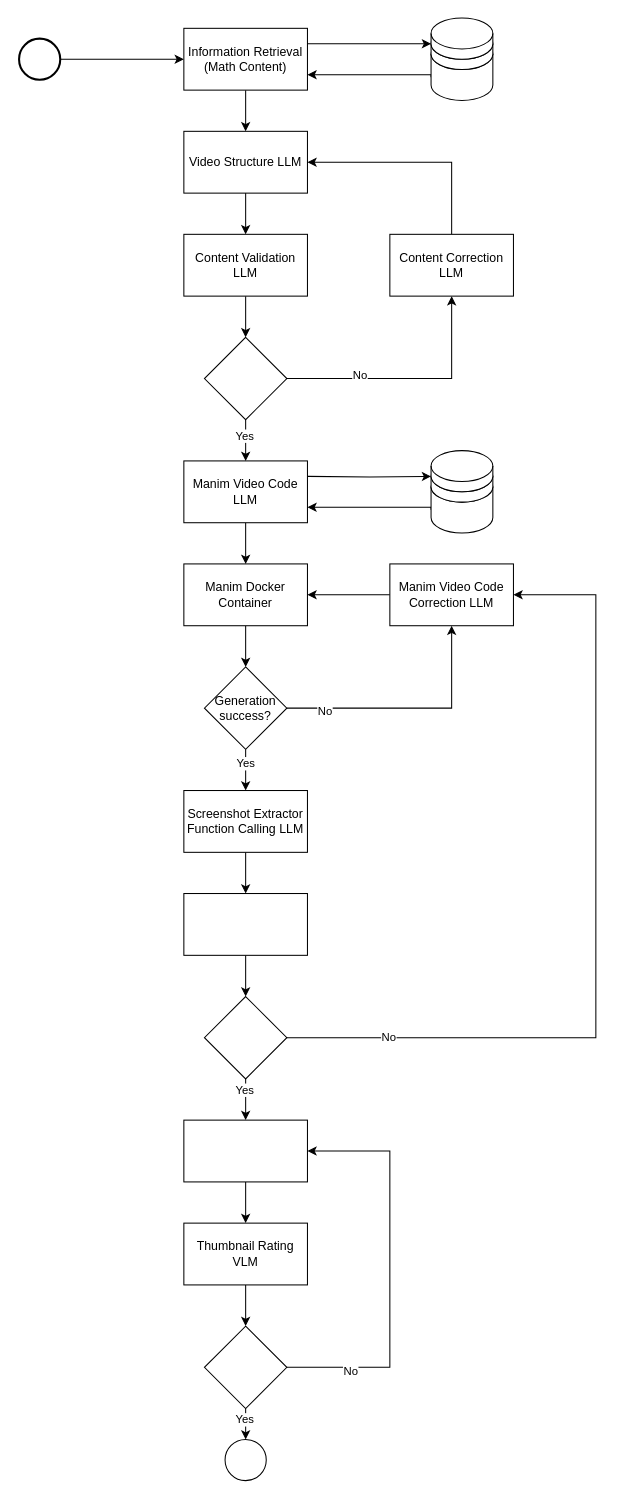
Some shapes in this 622 by 1499 pixel diagram are drawn without their labels. The box of each missing label's shape, as (x1, y1, x2, y2) in pixels:
Thumbnail Generation Function Calling LLM: (183, 1119, 307, 1182)
Thumbnail good?: (203, 1325, 287, 1409)
Valid Content?: (203, 336, 287, 420)
Valid Video Content?: (203, 995, 287, 1079)
Video Validation VLM: (183, 892, 307, 955)
